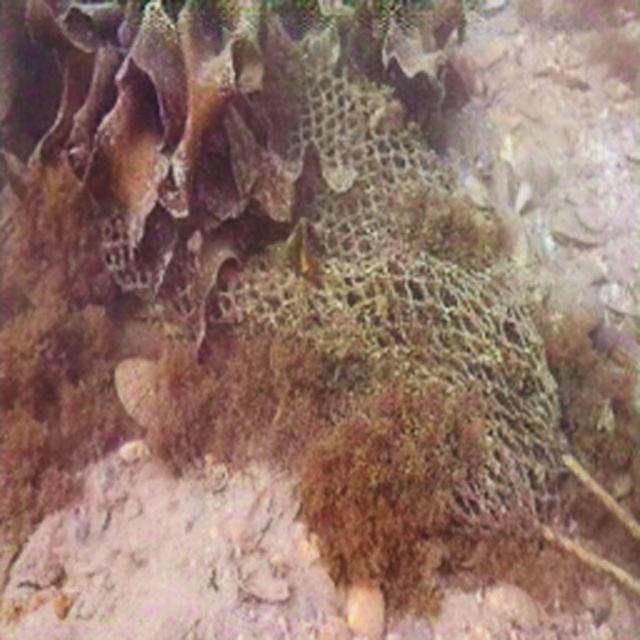mine: (100, 69, 553, 502)
